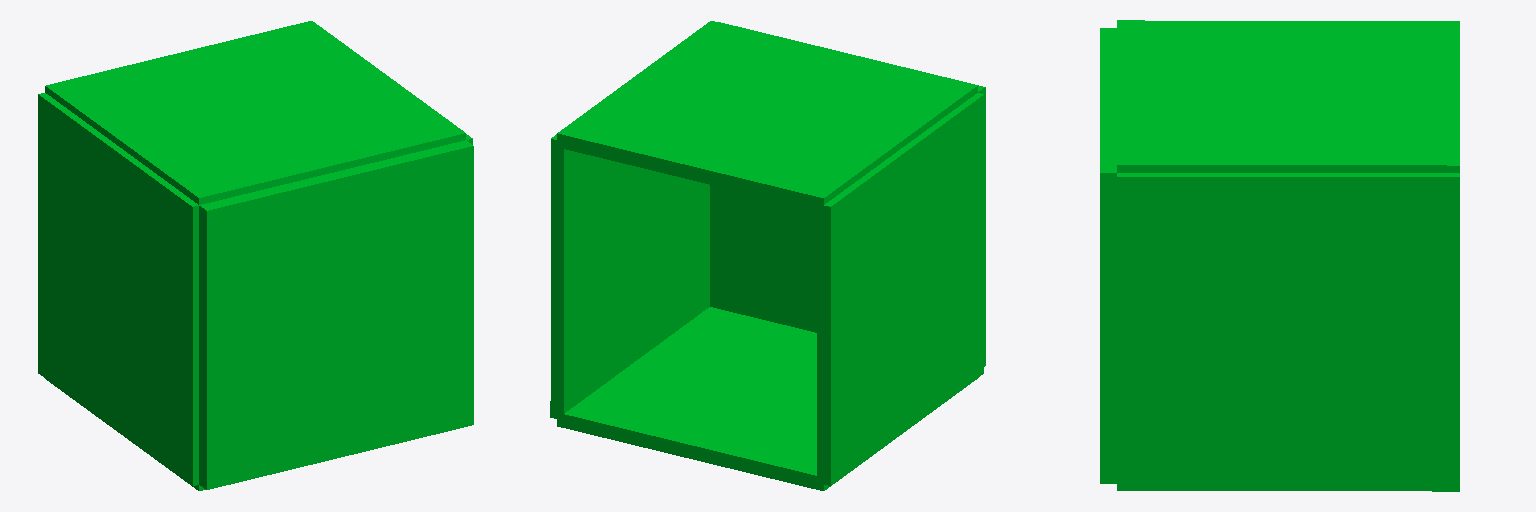
URDF robot description (cup):
<?xml version="1.0"?>
<robot name="cup">


  <!-- Link representing the blade of the shovel -->
  <link name="base_link">
    <visual>
      <geometry>
        <box size="0.1 0.01 0.1"/>
      </geometry>
      <material name="silver">
        <color rgba="0.0 0.8 0.2 0.5"/>
      </material>
    </visual>
    <collision>
      <geometry>
        <box size="0.1 0.02 0.1"/>
      </geometry>
    </collision>
    <inertial>
      <mass value="0.2"/>
      <origin rpy="0 0 0" xyz="0.0 0.0 -0.025"/>
      <inertia ixx="0.0001" ixy="0.0" ixz="0.0" iyy="0.0001" iyz="0.0" izz="0.0002"/>
    </inertial>
  </link>  <!-- Link representing the blade of the shovel -->

  <link name="blade_link_side1">
    <visual>
      <geometry>
        <box size="0.1 0.005 0.1"/>
      </geometry>
      <material name="silver">
        <color rgba="0.0 0.8 0.2 0.5"/>
      </material>
    </visual>
    <collision>
      <geometry>
        <box size="0.1 0.005 0.1"/>
      </geometry>
    </collision>
    <inertial>
      <mass value="0.2"/>
      <origin rpy="0 0 0" xyz="0.0 0.0 -0.025"/>
      <inertia ixx="0.0001" ixy="0.0" ixz="0.0" iyy="0.0001" iyz="0.0" izz="0.0002"/>
    </inertial>
  </link>

  <link name="blade_link_side2">
    <visual>
      <geometry>
        <box size="0.1 0.005 0.1"/>
      </geometry>
      <material name="silver">
        <color rgba="0.0 0.8 0.2 0.5"/>
      </material>
    </visual>
    <collision>
      <geometry>
        <box size="0.1 0.005 0.1"/>
      </geometry>
    </collision>
    <inertial>
      <mass value="0.2"/>
      <origin rpy="0 0 0" xyz="0.0 0.0 -0.025"/>
      <inertia ixx="0.0001" ixy="0.0" ixz="0.0" iyy="0.0001" iyz="0.0" izz="0.0002"/>
    </inertial>
  </link>

  <link name="blade_link_bot">
    <visual>
      <geometry>
        <box size="0.1 0.005 0.1"/>
      </geometry>
      <material name="silver">
        <color rgba="0.0 0.8 0.2 0.5"/>
      </material>
    </visual>
    <collision>
      <geometry>
        <box size="0.1 0.005 0.1"/>
      </geometry>
    </collision>
    <inertial>
      <mass value="0.2"/>
      <origin rpy="0 0 0" xyz="0.0 0.0 -0.025"/>
      <inertia ixx="0.0001" ixy="0.0" ixz="0.0" iyy="0.0001" iyz="0.0" izz="0.0002"/>
    </inertial>
  </link>

  <link name="blade_link_bot2">
    <visual>
      <geometry>
        <box size="0.1 0.005 0.1"/>
      </geometry>
      <material name="silver">
        <color rgba="0.0 0.8 0.2 0.5"/>
      </material>
    </visual>
    <collision>
      <geometry>
        <box size="0.1 0.005 0.1"/>
      </geometry>
    </collision>
    <inertial>
      <mass value="0.2"/>
      <origin rpy="0 0 0" xyz="0.0 0.0 -0.025"/>
      <inertia ixx="0.0001" ixy="0.0" ixz="0.0" iyy="0.0001" iyz="0.0" izz="0.0002"/>
    </inertial>
  </link>


  <joint name="joint_base_blade_side1" type="fixed">
    <parent link="base_link"/>
    <child link="blade_link_side1"/>
    <origin rpy="1.57 0 0" xyz="0.0 0.05 0.05"/>
  </joint>

  <joint name="joint_base_blade_side2" type="fixed">
    <parent link="base_link"/>
    <child link="blade_link_side2"/>
    <origin rpy="1.57 0 0" xyz="0.0 0.05 -0.05"/>
  </joint>

  <joint name="joint_base_blade_bot" type="fixed">
    <parent link="base_link"/>
    <child link="blade_link_bot"/>
    <origin rpy="1.57 1.57 0" xyz="0.05 0.05 0"/>
  </joint>

  <joint name="joint_base_blade_bot2" type="fixed">
    <parent link="base_link"/>
    <child link="blade_link_bot2"/>
    <origin rpy="1.57 1.57 0" xyz="-0.05 0.05 0"/>
  </joint>

</robot>

--- Facts derived from the render (not from the file) ---
Views: 3 orthographic renders of the robot side by side, from view 1: azimuth 30°, elevation 25°; view 2: azimuth 150°, elevation 25°; view 3: azimuth 270°, elevation 25°.
Robot: cup — 5 links, 4 joints (4 fixed); root link base_link; default pose: all joints at 0.
Visible links, largest first — view 1: base_link, blade_link_bot2, blade_link_side1; view 2: blade_link_bot2, blade_link_side1, blade_link_bot, blade_link_side2, base_link; view 3: blade_link_bot, blade_link_side1, base_link, blade_link_side2.
Boxes of the visible links, x1=… form: base_link: x1=199, y1=140, x2=473, y2=489; blade_link_bot2: x1=38, y1=93, x2=198, y2=485; blade_link_side1: x1=45, y1=21, x2=465, y2=204; blade_link_bot2: x1=817, y1=93, x2=983, y2=485; blade_link_side1: x1=557, y1=21, x2=977, y2=210; blade_link_bot: x1=550, y1=134, x2=709, y2=418; blade_link_side2: x1=557, y1=307, x2=977, y2=490; base_link: x1=710, y1=22, x2=985, y2=366; blade_link_bot: x1=1117, y1=173, x2=1459, y2=486; blade_link_side1: x1=1117, y1=20, x2=1459, y2=172; base_link: x1=1100, y1=28, x2=1116, y2=483; blade_link_side2: x1=1117, y1=487, x2=1459, y2=491.
Bounding box of the posed robot: 0.1052 × 0.105 × 0.1051 m (x, y, z).
Geometry: primitives only (box / cylinder / sphere), no mesh files.